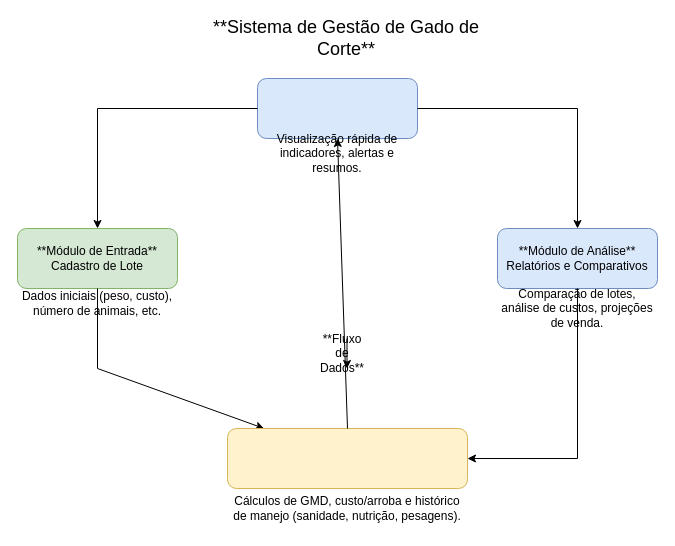
Some shapes in this 675 by 546 pixel diagram are drawn without their labels. The shapes that lost their labels are listed below. From the top down, each one's centre as x and y in pixels, then its label:
At point (337, 108): "**Painel Inicial (Dashboard)**".
At point (347, 458): "**Módulo de Gerenciamento** Detalhes do Lote".
